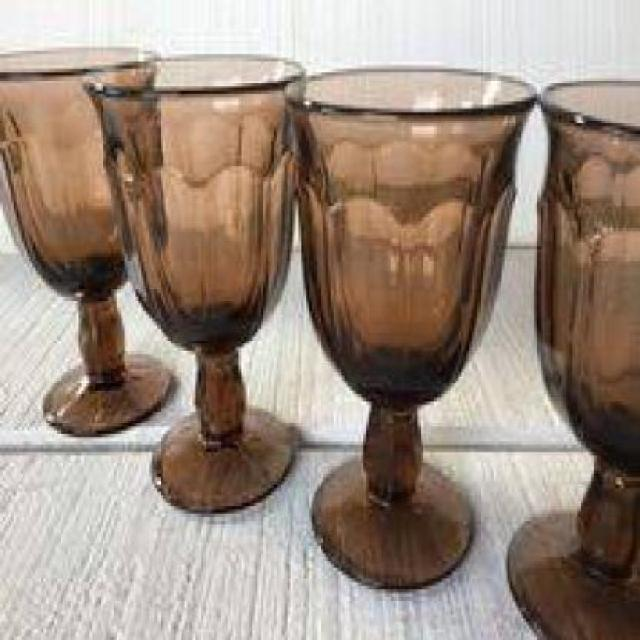kaca: (283, 66, 535, 583), (82, 51, 303, 514), (505, 75, 637, 637), (0, 48, 171, 434)
